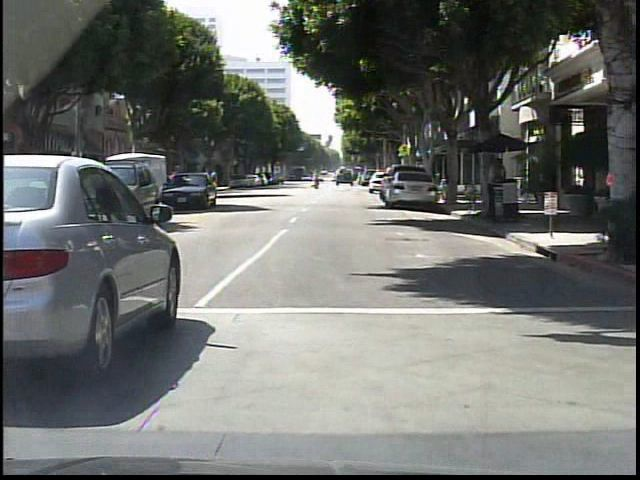person: (490, 158, 511, 224), (606, 163, 623, 236), (312, 173, 323, 193)
